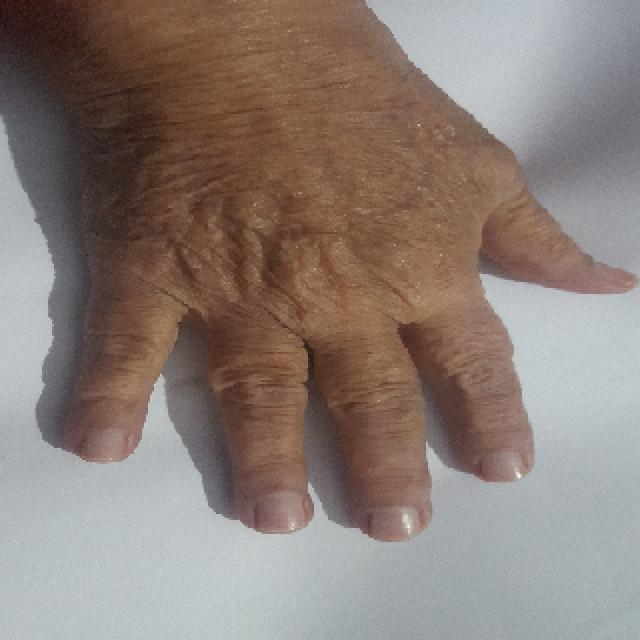Nail: (254, 490, 306, 534), (369, 506, 421, 541), (81, 428, 128, 462), (480, 451, 525, 481), (592, 262, 638, 285)
